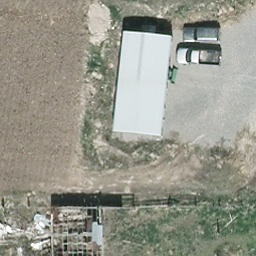car: (182, 25, 221, 42)
pickup: (176, 44, 223, 69)
